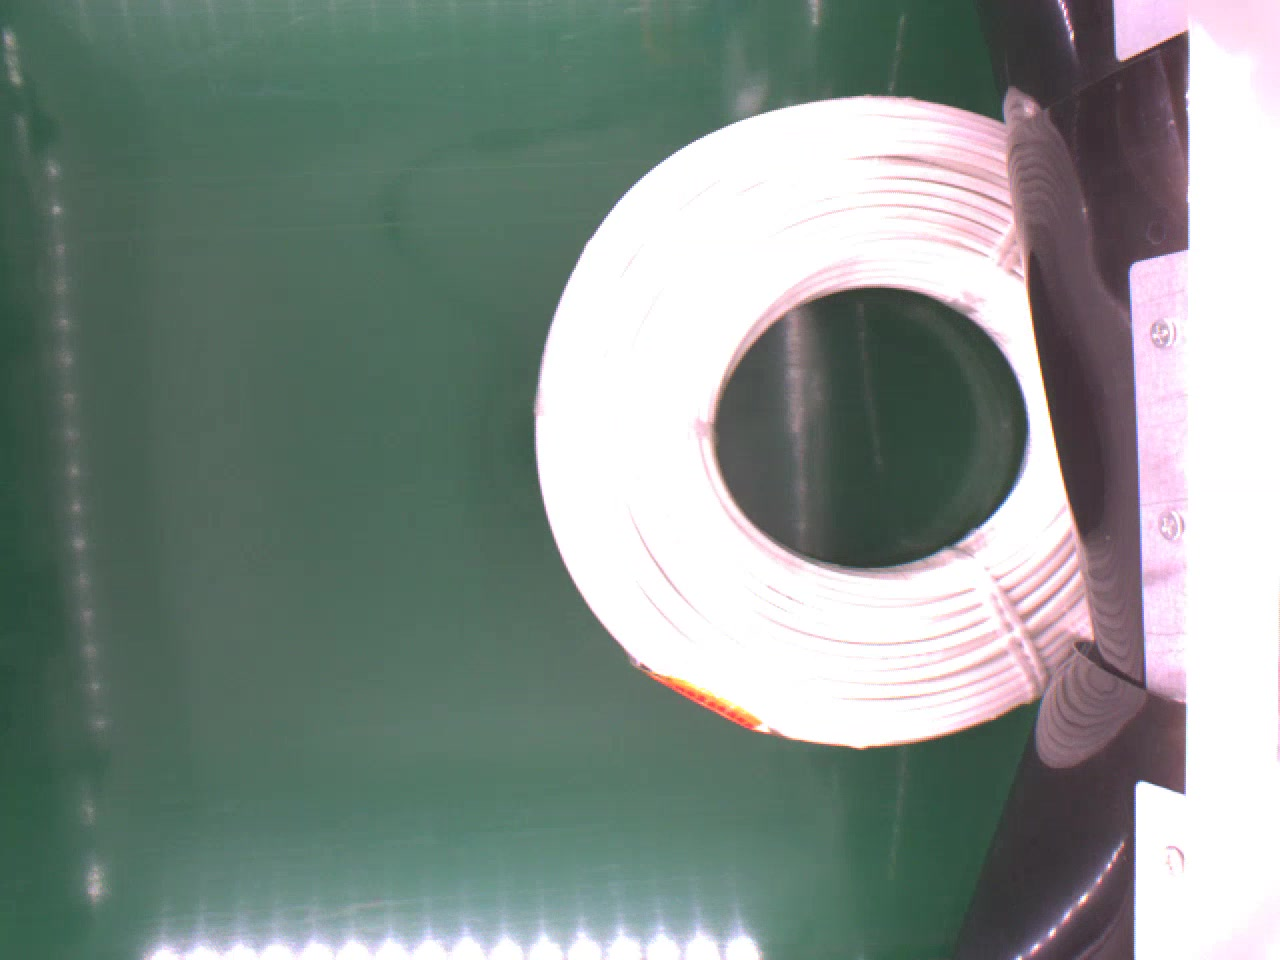white: (534, 92, 1084, 753)
